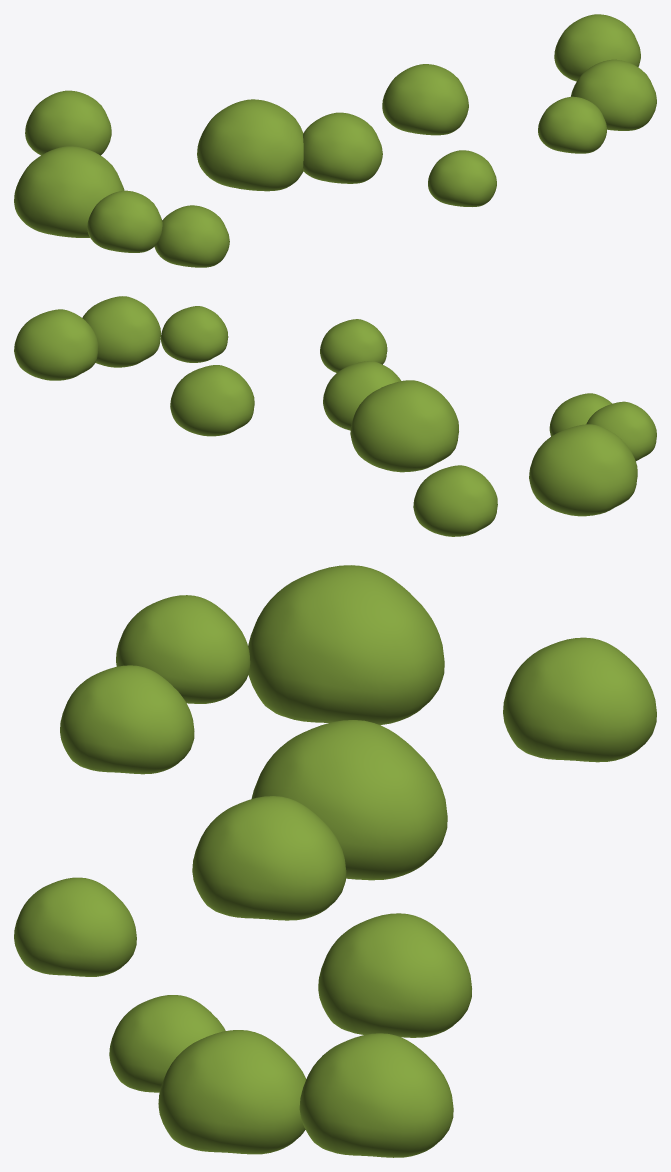
File: bushes.fbx
3 renders of one model, top to bottom at view 1: azimuth 30°, elevation 25°; view 2: azimuth 150°, elevation 25°; view 3: azimuth 270°, elevation 25°, orthographic. The views are drawn at different scales.
Visible parts, largest first — view 1: polySurface43; view 2: polySurface43; view 3: polySurface43.
Part boxes in pixels (<box>): polySurface43: <box>14,14,656,267</box>; polySurface43: <box>14,296,656,536</box>; polySurface43: <box>14,565,656,1157</box>.
Size of the model in its own units: 15.83 by 1.9 by 8.09.
